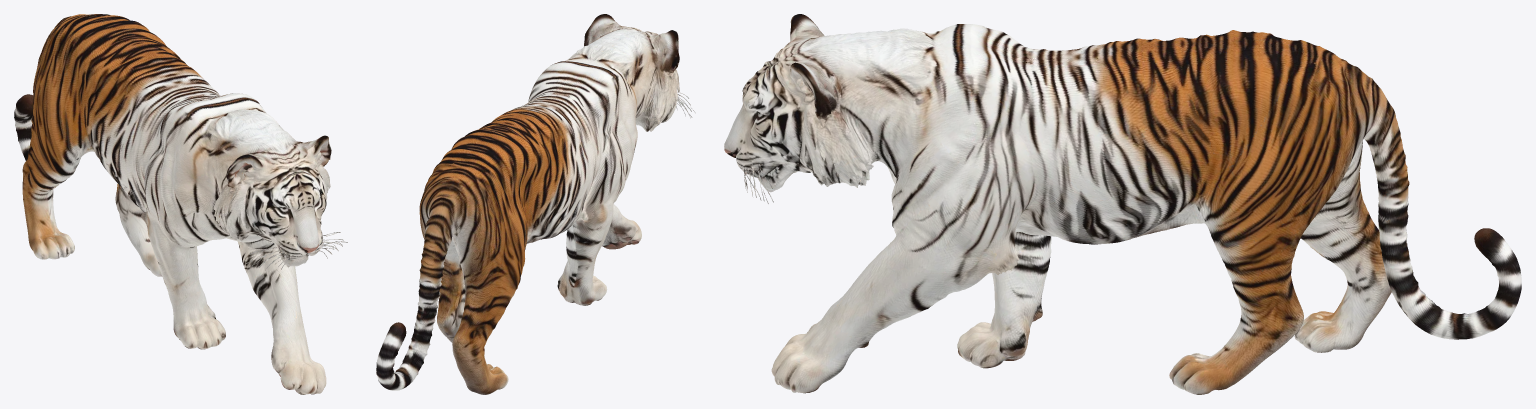
The model's file is white_tiger.glb.
3 views of the same model, side by side, from view 1: azimuth 30°, elevation 25°; view 2: azimuth 150°, elevation 25°; view 3: azimuth 270°, elevation 25° (orthographic). The views are drawn at different scales.
Visible parts, largest first — view 1: Object_4; view 2: Object_4; view 3: Object_4.
Boxes of the visible parts, x1=… form: Object_4: x1=14, y1=14, x2=347, y2=394; Object_4: x1=376, y1=14, x2=695, y2=394; Object_4: x1=724, y1=14, x2=1521, y2=394.
Bounding box in the file's own units: 0.4205 × 0.8816 × 1.9.
1 material, 1 textured.
